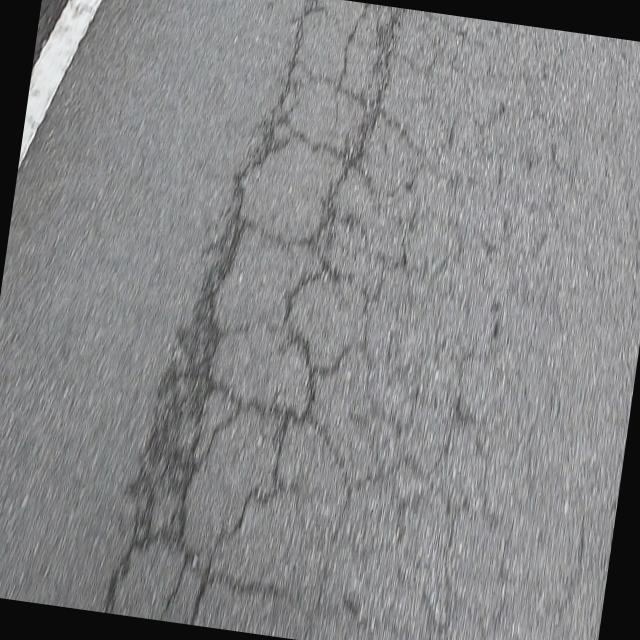Retak-Buaya: (105, 0, 443, 640)
